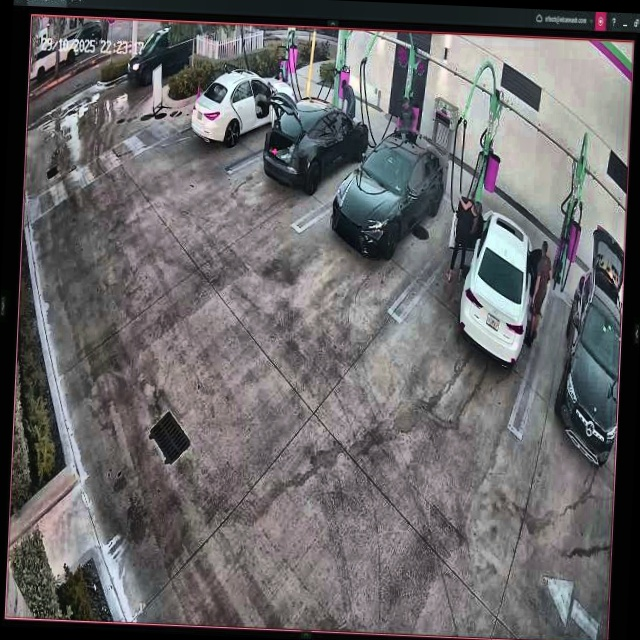Car: (448, 199, 549, 370), (330, 129, 448, 266), (261, 91, 370, 191), (192, 67, 296, 153)
